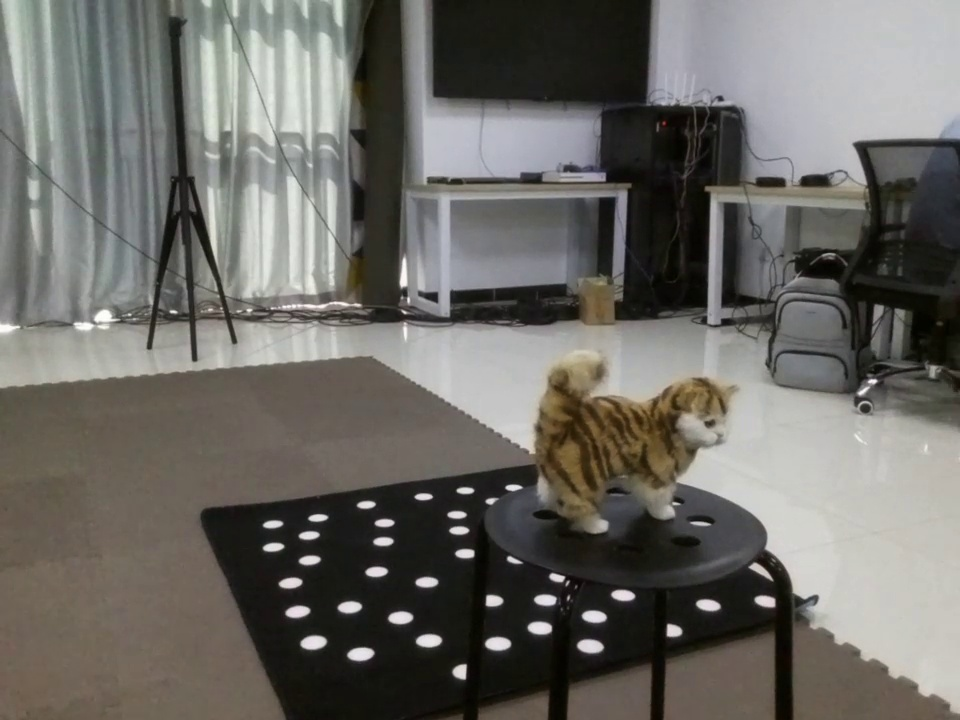cat: (502, 343, 751, 529)
